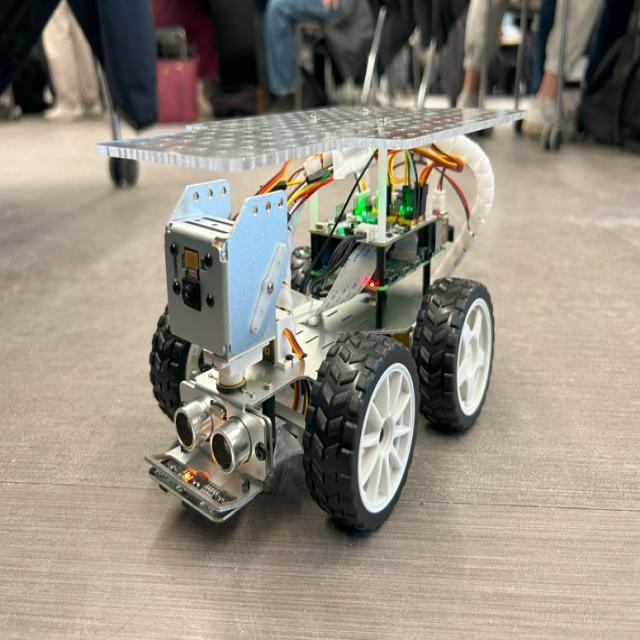vehicle: (90, 76, 546, 561)
